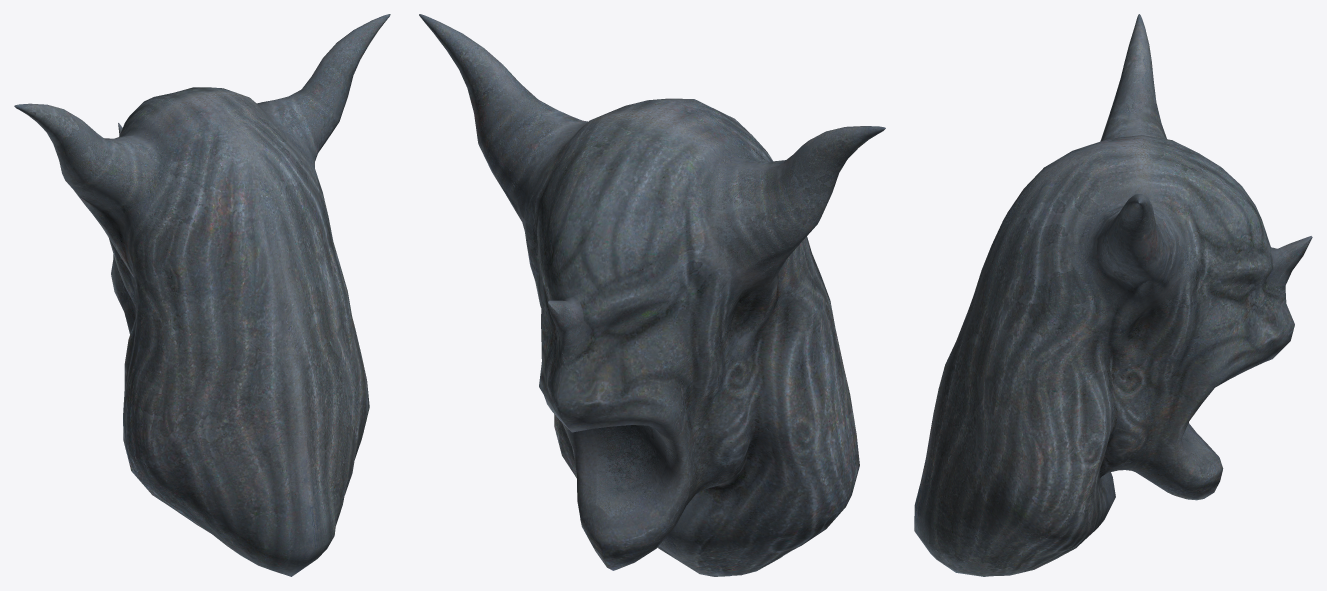
File: Head1.FBX
The picture shows the model from 3 angles, left to right: view 1: azimuth 30°, elevation 25°; view 2: azimuth 150°, elevation 25°; view 3: azimuth 270°, elevation 25°; orthographic projection. The views are drawn at different scales.
Visible parts, largest first — view 1: Group23620; view 2: Group23620; view 3: Group23620.
Part boxes in pixels (x1,y1,x2,y2): Group23620: (14,14,390,576); Group23620: (419,14,885,576); Group23620: (914,14,1312,576).
Size of the model in its own units: 158 by 182 by 141.
1 material, 1 textured.
